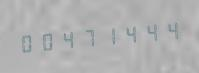four: (57, 23, 76, 54), (117, 18, 136, 49), (137, 16, 156, 47), (157, 15, 176, 46)
one: (97, 20, 116, 51)
seven: (77, 21, 96, 53)
zero: (17, 27, 36, 58), (37, 25, 56, 56)
